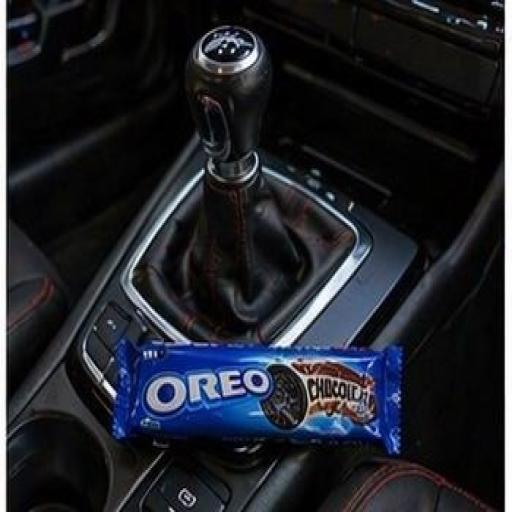oreo: (66, 277, 429, 487)
